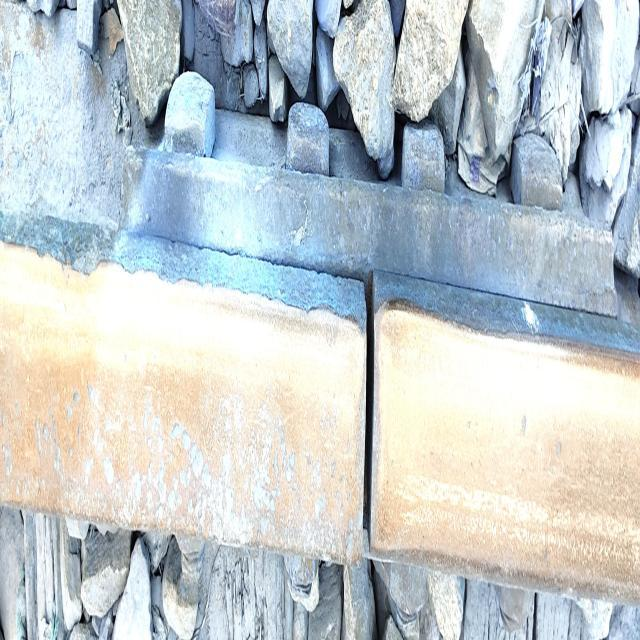Good Joint: (111, 63, 619, 321)
